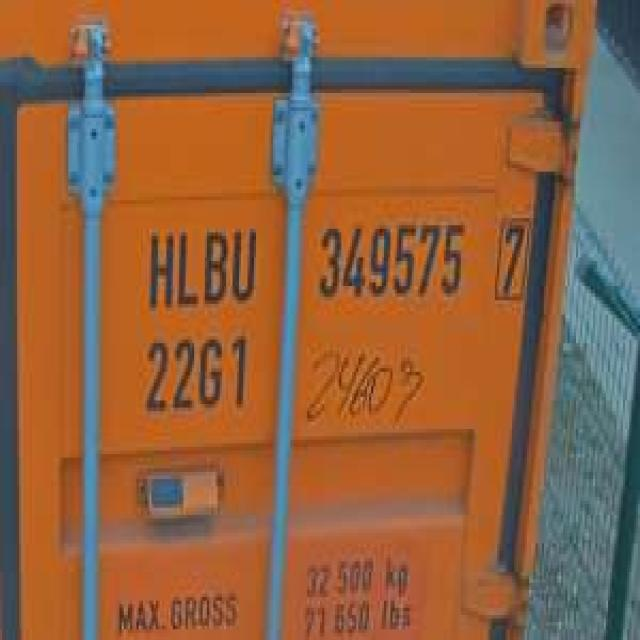dv: (491, 208, 533, 308)
owner: (141, 218, 260, 308)
serial: (312, 211, 467, 311)
size: (138, 326, 252, 418)
